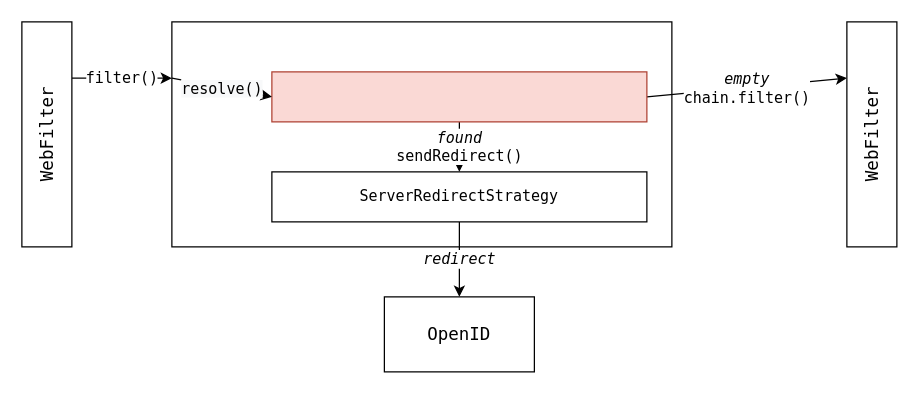
This 919x394 diagram has some shape labels left out. Here are the shapes that lost their labels. From the top down, the box of each, then its label:
(271, 71, 647, 122): ServerOAuth2AuthorizationRequestResolver
(171, 21, 672, 247): OAuth2AuthorizationRequestRedirectWebFilter
